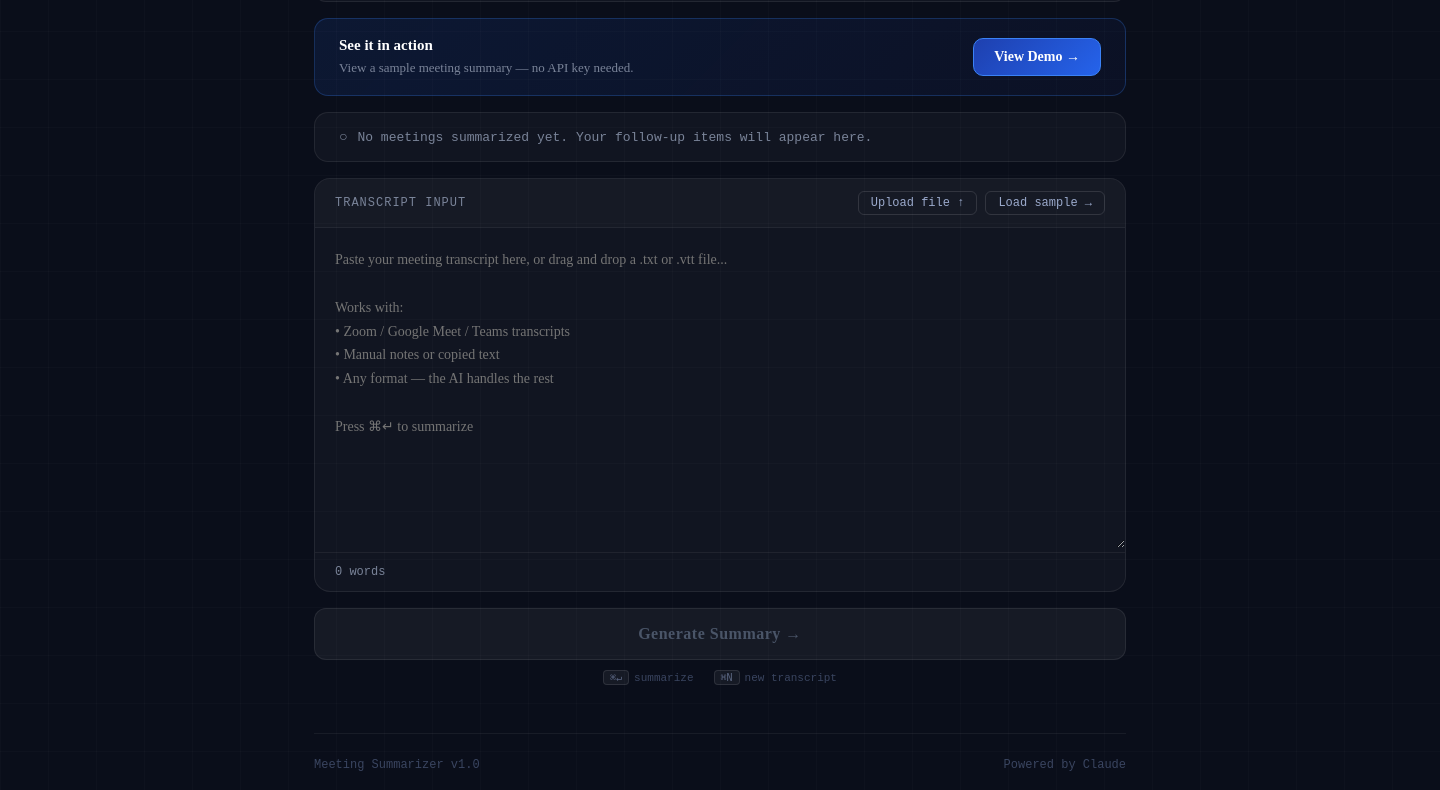
Scenario: summarize: API error handling › shows "Invalid API key" error on 401
The width and height of the screenshot is (1440, 790).
(page scrolled)
Replace the text in the text box with placeholder "Paste your meeting transcript" with "Some transcript content". click: point(720, 388)
box: 315,228 -> 1125,548
(page scrolled)
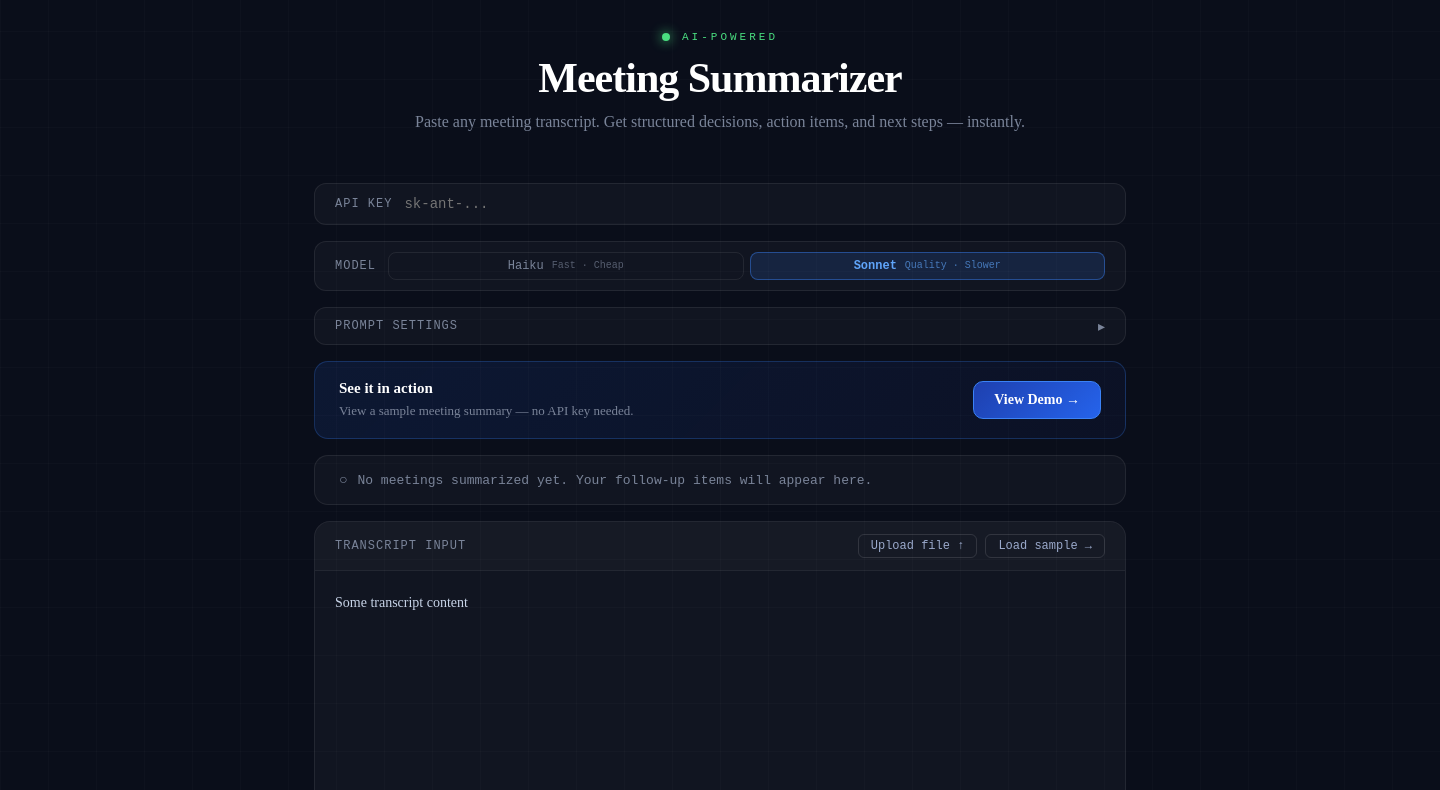
Type "sk-ant-test" into the password field with placeholder "sk-ant-...". click: point(755, 204)
box: 404,196 -> 1105,212
(page scrolled)
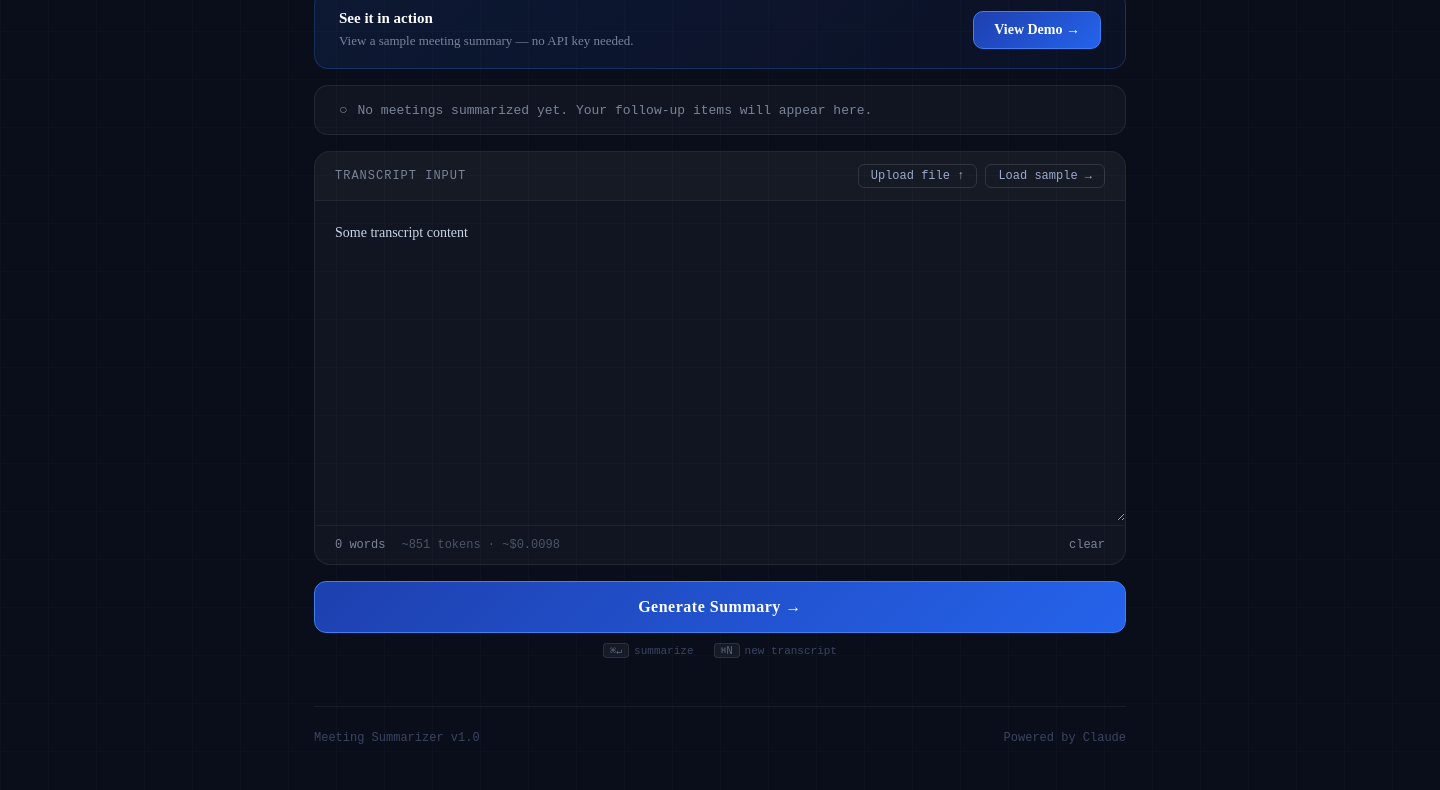
Click the button "Generate Summary →". click: point(720, 607)
box: 314,581 -> 1126,633
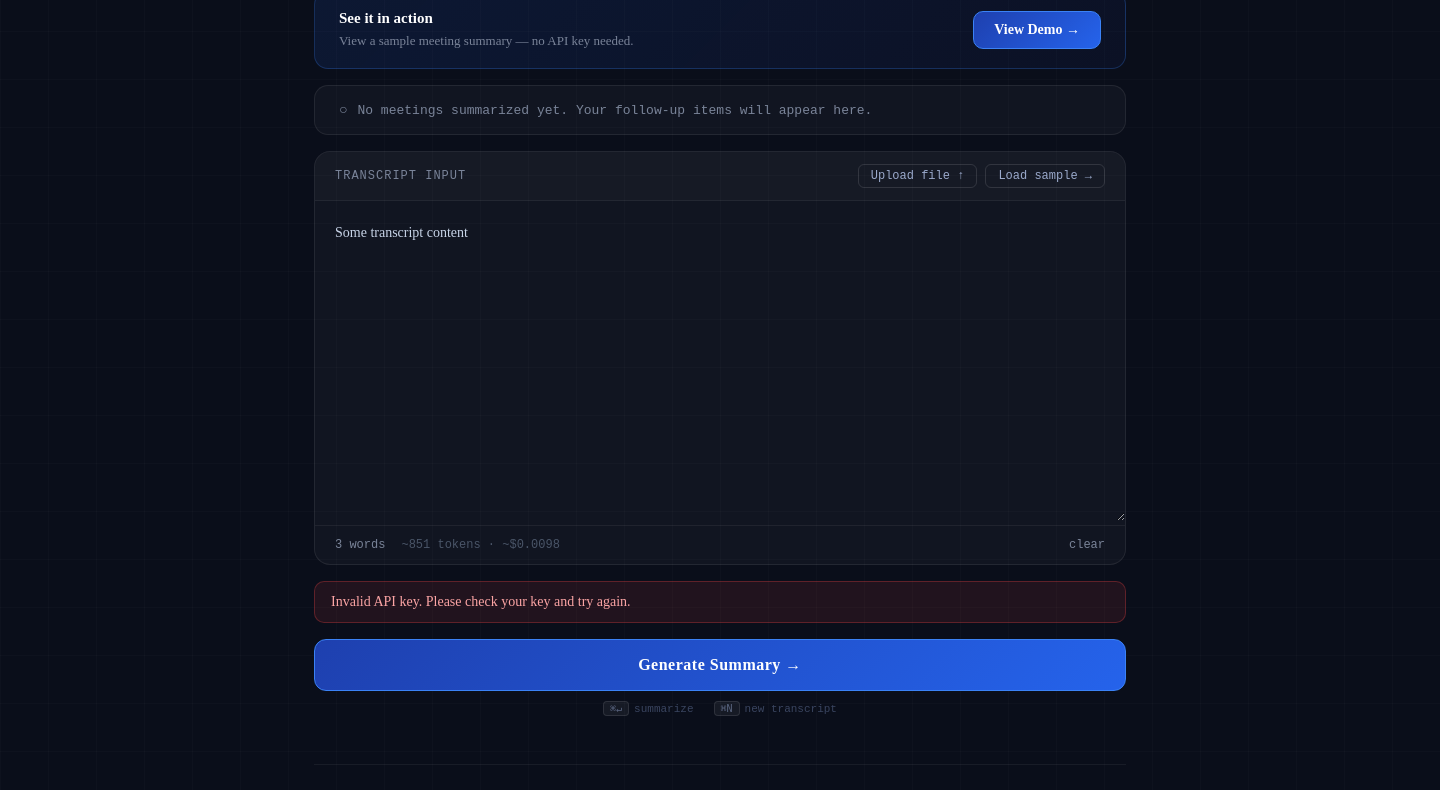
Expected: the text "Invalid API key. Please check your key and try again." is shown, 314,581 -> 1126,623
